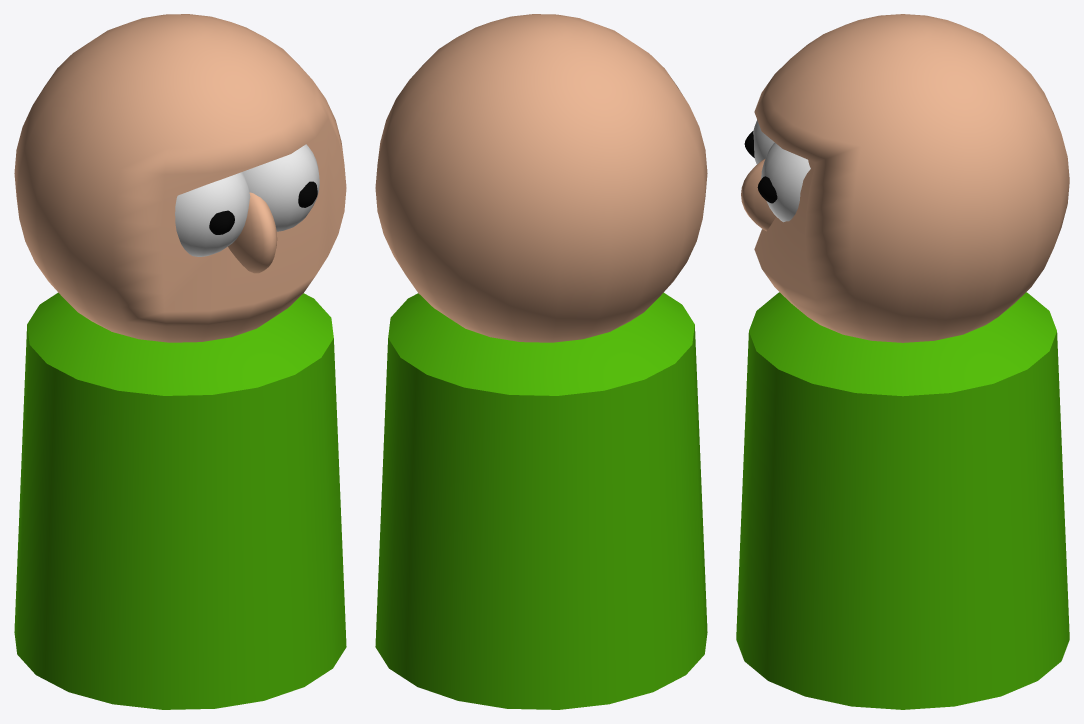
File: guy.fbx
The picture shows the model from 3 angles, left to right: view 1: azimuth 30°, elevation 25°; view 2: azimuth 150°, elevation 25°; view 3: azimuth 270°, elevation 25°; orthographic projection.
Parts seen in each view (by area): view 1: pCylinder1, pSphere1, pasted__pSphere2 (×2), pSphere2; view 2: pCylinder1, pSphere1; view 3: pCylinder1, pSphere1, pasted__pSphere2 (×2).
Part boxes in pixels (left/top/right/bottom): pCylinder1: left=14, top=292, right=346, bottom=709; pSphere1: left=14, top=14, right=346, bottom=342; pasted__pSphere2 (×2): left=228, top=144, right=319, bottom=273; pSphere2: left=175, top=172, right=250, bottom=256; pCylinder1: left=375, top=292, right=707, bottom=709; pSphere1: left=375, top=14, right=707, bottom=342; pCylinder1: left=736, top=292, right=1069, bottom=709; pSphere1: left=754, top=14, right=1069, bottom=342; pasted__pSphere2 (×2): left=741, top=142, right=810, bottom=231.
Size of the model in its own units: 2 by 4.03 by 2.
